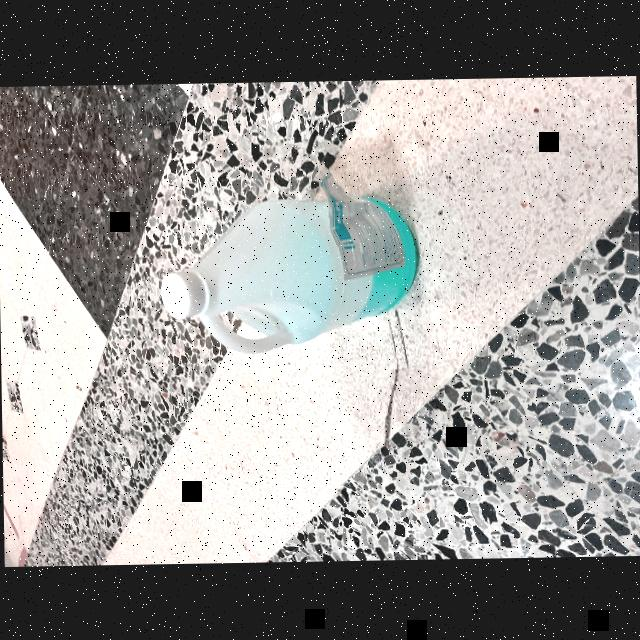chemical_plastic_gallon: (148, 162, 424, 382)
